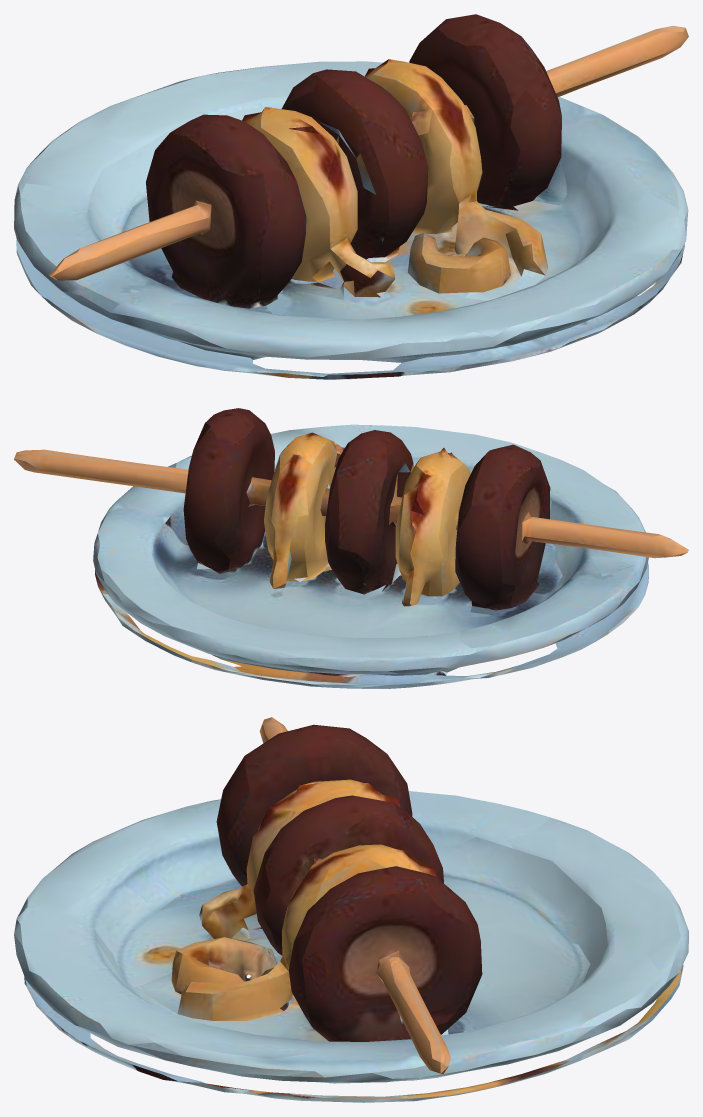
Rendered from mushroom_skewer.glb.
3 renders of one model, top to bottom at view 1: azimuth 30°, elevation 25°; view 2: azimuth 150°, elevation 25°; view 3: azimuth 270°, elevation 25°, orthographic. The views are drawn at different scales.
Parts seen in each view (by area): view 1: mushroom_skewer; view 2: mushroom_skewer; view 3: mushroom_skewer.
Boxes of the visible parts, x1,y1,x2,y2 form: mushroom_skewer: [14, 14, 688, 379]; mushroom_skewer: [14, 408, 688, 688]; mushroom_skewer: [14, 717, 688, 1102].
Bounding box in the file's own units: 1 × 0.2412 × 0.8113.
1 material, 1 textured.
